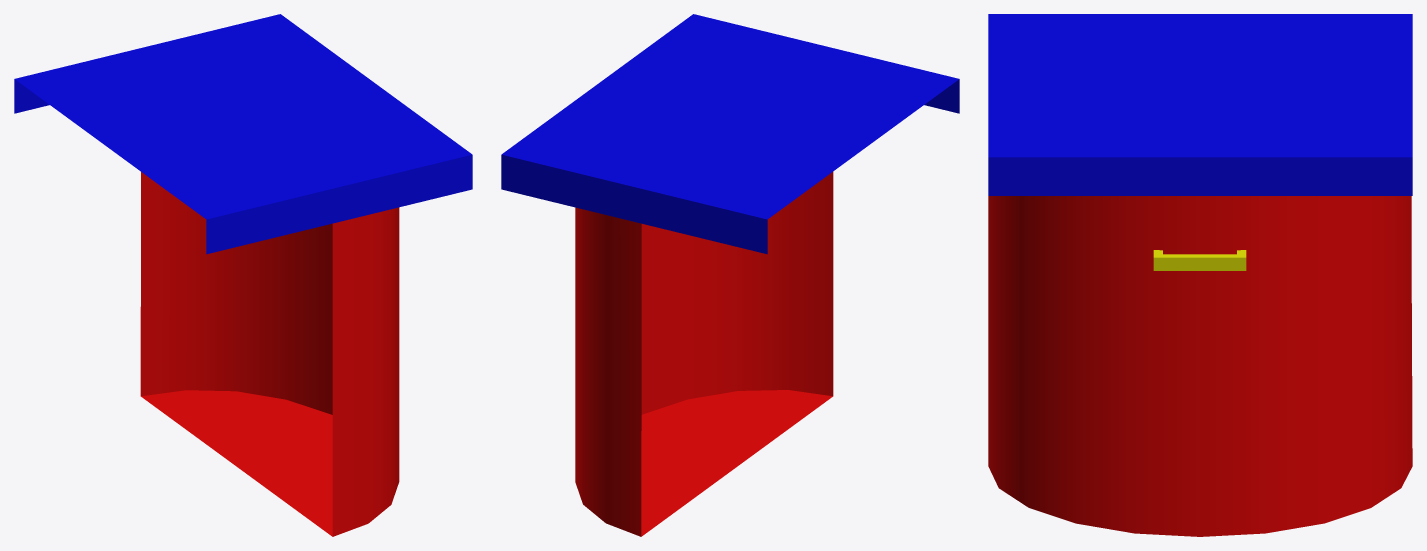
Rendered from Küchentheke_3_gerade_low.fbx.
3 views of the same model, side by side, from view 1: azimuth 30°, elevation 25°; view 2: azimuth 150°, elevation 25°; view 3: azimuth 270°, elevation 25° (orthographic). The views are drawn at different scales.
Parts seen in each view (by area): view 1: Küchentheke_3_gerade_low; view 2: Küchentheke_3_gerade_low; view 3: Küchentheke_3_gerade_low.
Part boxes in pixels (x1,y1,x2,y2): Küchentheke_3_gerade_low: [14, 14, 472, 536]; Küchentheke_3_gerade_low: [501, 14, 959, 536]; Küchentheke_3_gerade_low: [988, 14, 1412, 536].
Size of the model in its own units: 0.8026 by 1 by 1.
